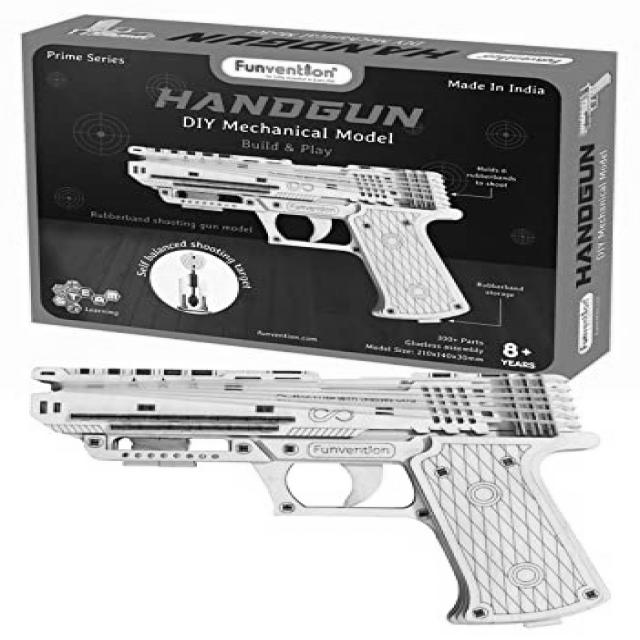Hand-Gun: (26, 354, 594, 626), (122, 141, 478, 335)
